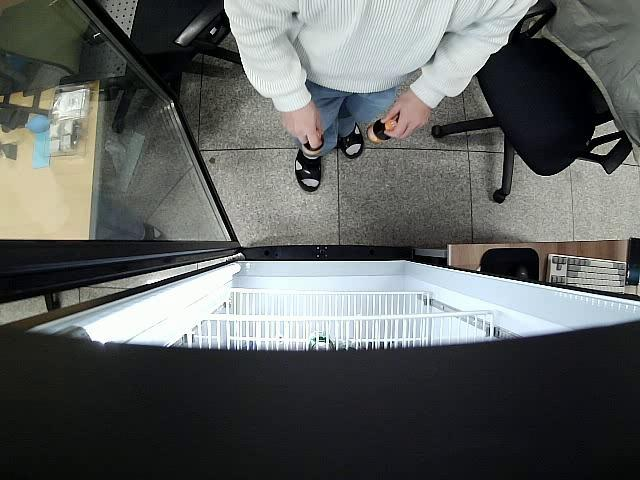17_vita500: (366, 114, 398, 144), (300, 132, 322, 163)
